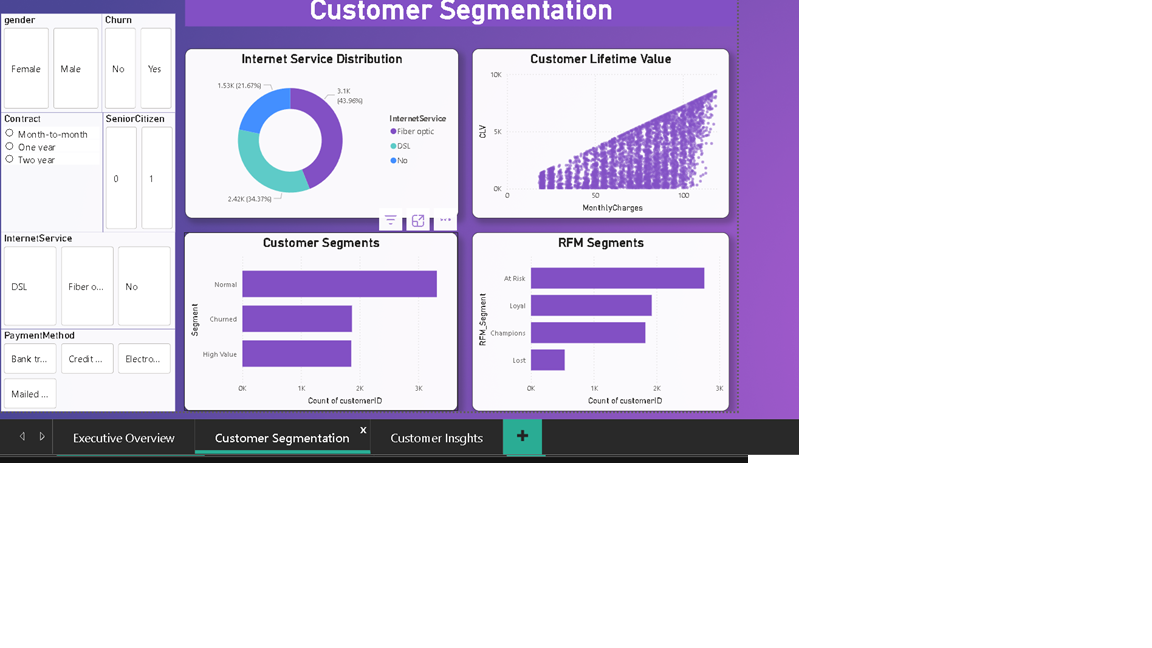

What the dashboard file says about the page in this screenshot:
{"tool":"powerbi","page":{"name":"Customer Segmentation","canvas":[1280,720],"ordinal":1},"visuals":[{"type":"donutChart","title":"Internet Service Distribution","fields":{"Category":["customer_churn_cleaned.InternetService"],"Y":["CountNonNull(customer_churn_cleaned.customerID)"]},"box":[331.9,96.1,469.9,291.7],"z":0},{"type":"scatterChart","title":"Customer Lifetime Value","fields":{"X":["customer_churn_cleaned.MonthlyCharges"],"Y":["customer_churn_cleaned.CLV"]},"box":[824.5,96.1,441.9,291.7],"z":1000},{"type":"clusteredBarChart","title":"Customer Segments","fields":{"Category":["customer_churn_cleaned.Segment"],"Y":["CountNonNull(customer_churn_cleaned.customerID)"]},"box":[330.1,412.2,469.9,307.4],"z":2000},{"type":"clusteredBarChart","title":"RFM Segments","fields":{"Category":["customer_churn_cleaned.RFM_Segment"],"Y":["CountNonNull(customer_churn_cleaned.customerID)"]},"box":[824.5,412.2,441.9,307.4],"z":3000},{"type":"advancedSlicerVisual","fields":{"Values":["customer_churn_cleaned.gender"]},"box":[15.7,36.7,172.9,169.4],"z":4000},{"type":"advancedSlicerVisual","fields":{"Values":["customer_churn_cleaned.SeniorCitizen"]},"box":[190.4,206.1,124,206.1],"z":5000},{"type":"listSlicer","fields":{"Values":["customer_churn_cleaned.Contract"]},"box":[15.7,206.1,174.7,206.1],"z":6000},{"type":"advancedSlicerVisual","fields":{"Values":["customer_churn_cleaned.InternetService"]},"box":[15.7,412.2,298.7,165.9],"z":7000},{"type":"advancedSlicerVisual","fields":{"Values":["customer_churn_cleaned.PaymentMethod"]},"box":[15.7,578.2,298.7,141.5],"z":8000},{"type":"advancedSlicerVisual","fields":{"Values":["customer_churn_cleaned.Churn"]},"box":[188.7,36.7,125.8,169.4],"z":9000},{"type":"textbox","title":"Customer Segmentation","box":[331.9,0,948.5,57.6],"z":10000}]}

Visuals, with their boxes on the page's 1280x720 design canvas (x1, y1, x2, y2). These are canvas units, not pixel positions in the 1152x648 screenshot, which may show the page scaled, cropped or inside an application window:
"Internet Service Distribution" donutChart: pyautogui.locateOnScreen(332, 96, 802, 388)
"Customer Lifetime Value" scatterChart: pyautogui.locateOnScreen(824, 96, 1266, 388)
"Customer Segments" clusteredBarChart: pyautogui.locateOnScreen(330, 412, 800, 720)
"RFM Segments" clusteredBarChart: pyautogui.locateOnScreen(824, 412, 1266, 720)
advancedSlicerVisual - customer_churn_cleaned.gender: pyautogui.locateOnScreen(16, 37, 189, 206)
advancedSlicerVisual - customer_churn_cleaned.SeniorCitizen: pyautogui.locateOnScreen(190, 206, 314, 412)
listSlicer - customer_churn_cleaned.Contract: pyautogui.locateOnScreen(16, 206, 190, 412)
advancedSlicerVisual - customer_churn_cleaned.InternetService: pyautogui.locateOnScreen(16, 412, 314, 578)
advancedSlicerVisual - customer_churn_cleaned.PaymentMethod: pyautogui.locateOnScreen(16, 578, 314, 720)
advancedSlicerVisual - customer_churn_cleaned.Churn: pyautogui.locateOnScreen(189, 37, 314, 206)
"Customer Segmentation" textbox: pyautogui.locateOnScreen(332, 0, 1280, 58)
